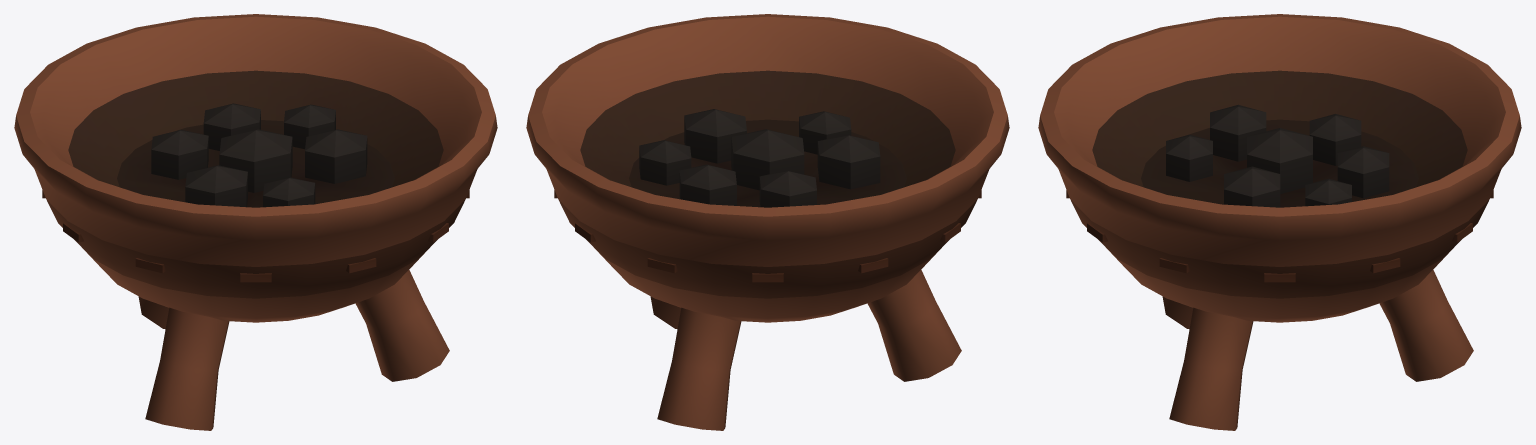
File: lamp-brazier.glb
3 renders of one model, left to right at view 1: azimuth 30°, elevation 25°; view 2: azimuth 150°, elevation 25°; view 3: azimuth 270°, elevation 25°, orthographic.
Parts seen in each view (by area): view 1: base, coals; view 2: base, coals; view 3: base, coals.
Boxes of the visible parts, x1,y1,x2,y2 form: base: (14, 14, 497, 430); coals: (151, 103, 367, 207); base: (526, 14, 1009, 430); coals: (639, 109, 880, 207); base: (1038, 14, 1521, 430); coals: (1166, 104, 1389, 207).
Bounding box in the file's own units: 0.139 × 0.0837 × 0.139.
